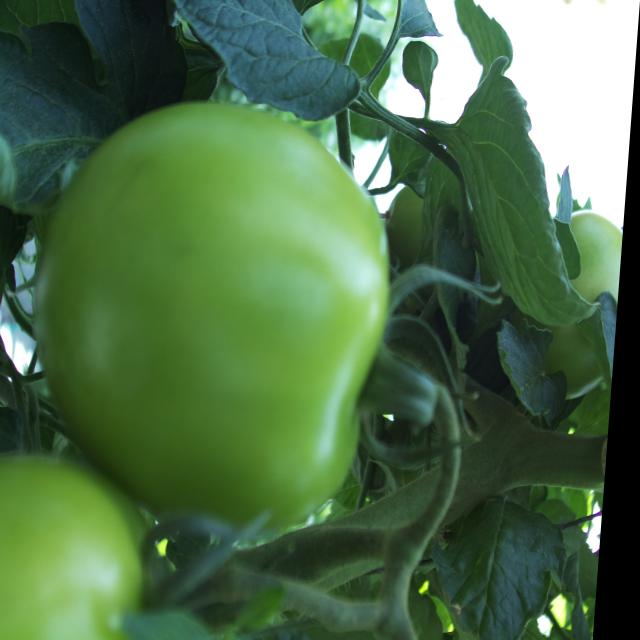yesil: (22, 51, 445, 520)
